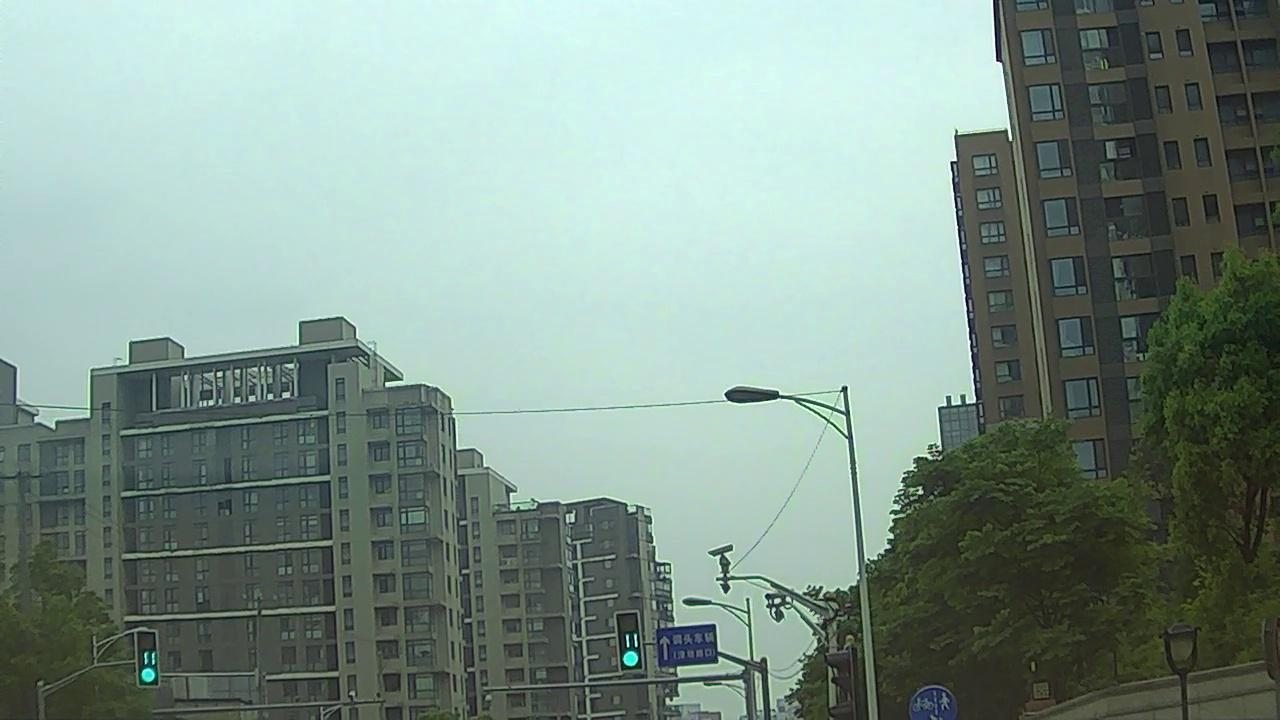traffic_light: (617, 614, 642, 670), (133, 629, 157, 684)
